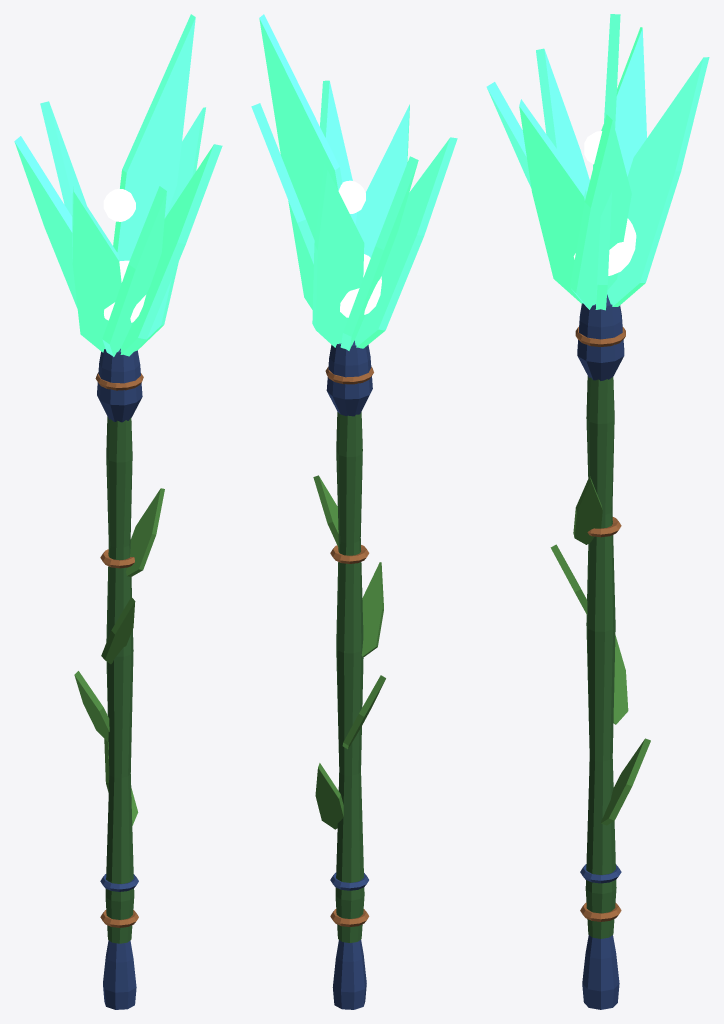
Rendered from staff_verdant.glb.
3 views of the same model, side by side, from view 1: azimuth 30°, elevation 25°; view 2: azimuth 150°, elevation 25°; view 3: azimuth 270°, elevation 25° (orthographic). The views are drawn at different scales.
Parts seen in each view (by area): view 1: Vd_Shaft, Vd_Flame0, Vd_Flame3, Vd_Flame5, Vd_Flame4, Vd_Flame2, Vd_Neck, Vd_Foot, Vd_Flame6, Vd_Flame1, Vd_Leaf3, Vd_Leaf2 (+2 smaller); view 2: Vd_Shaft, Vd_Flame0, Vd_Flame1, Vd_Flame3, Vd_Flame4, Vd_Flame2, Vd_Neck, Vd_Foot, Vd_Flame6, Vd_Flame5, Vd_Leaf2, Vd_Leaf0 (+4 smaller); view 3: Vd_Shaft, Vd_Flame1, Vd_Flame5, Vd_Flame6, Vd_Flame2, Vd_Neck, Vd_Flame3, Vd_Flame0, Vd_Foot, Vd_Leaf3, Vd_Leaf0, Vd_Flame4 (+3 smaller).
Boxes of the visible parts, <box> form: Vd_Shaft: <box>105,416,134,943</box>; Vd_Flame0: <box>113,14,195,261</box>; Vd_Flame3: <box>72,185,121,352</box>; Vd_Flame5: <box>120,144,222,356</box>; Vd_Flame4: <box>102,186,166,356</box>; Vd_Flame2: <box>14,136,77,308</box>; Vd_Neck: <box>97,348,142,422</box>; Vd_Foot: <box>103,940,136,1009</box>; Vd_Flame6: <box>134,107,205,351</box>; Vd_Flame1: <box>40,101,86,216</box>; Vd_Leaf3: <box>126,488,164,576</box>; Vd_Leaf2: <box>101,597,135,664</box>; Vd_Shaft: <box>335,412,364,942</box>; Vd_Flame0: <box>259,14,342,309</box>; Vd_Flame1: <box>312,164,364,347</box>; Vd_Flame3: <box>354,137,457,348</box>; Vd_Flame4: <box>355,104,409,257</box>; Vd_Flame2: <box>340,156,418,350</box>; Vd_Neck: <box>326,340,372,416</box>; Vd_Foot: <box>332,940,366,1009</box>; Vd_Flame6: <box>251,103,314,264</box>; Vd_Flame5: <box>320,80,357,224</box>; Vd_Leaf2: <box>361,562,383,656</box>; Vd_Leaf0: <box>315,763,343,829</box>; Vd_Shaft: <box>585,376,616,938</box>; Vd_Flame1: <box>607,57,709,306</box>; Vd_Flame5: <box>519,99,586,303</box>; Vd_Flame6: <box>570,114,631,309</box>; Vd_Flame2: <box>593,27,646,176</box>; Vd_Neck: <box>577,294,624,380</box>; Vd_Flame3: <box>536,48,589,193</box>; Vd_Flame0: <box>595,14,620,310</box>; Vd_Foot: <box>582,935,619,1009</box>; Vd_Leaf3: <box>573,476,602,544</box>; Vd_Leaf0: <box>601,738,650,825</box>; Vd_Flame4: <box>486,82,531,187</box>.
Bounding box in the file's own units: 0.5205 × 2.68 × 0.5256.
